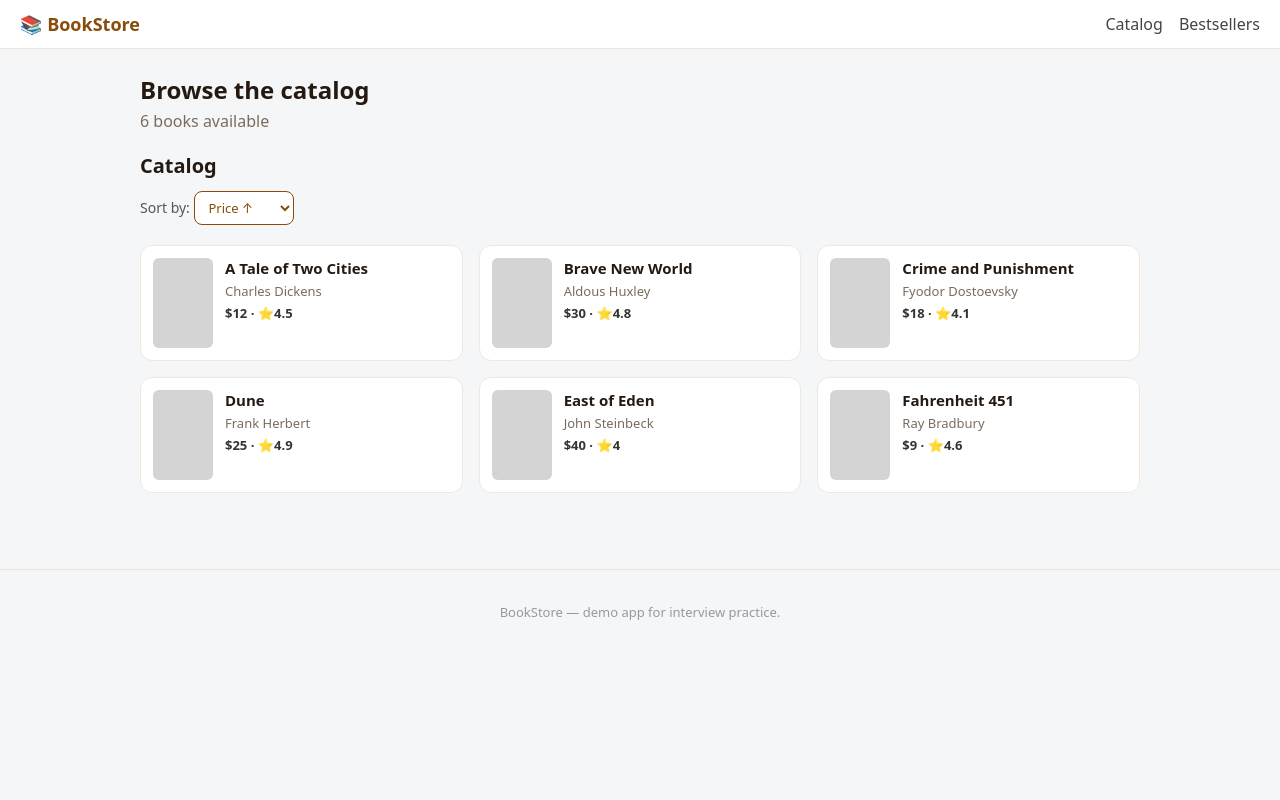
Scenario: m07 · BookStore — app renders › navigates to the Bestsellers route via the navbar
Click the link with test id "nav-bestsellers": (1219, 24) left=1179, top=13, right=1260, bottom=35
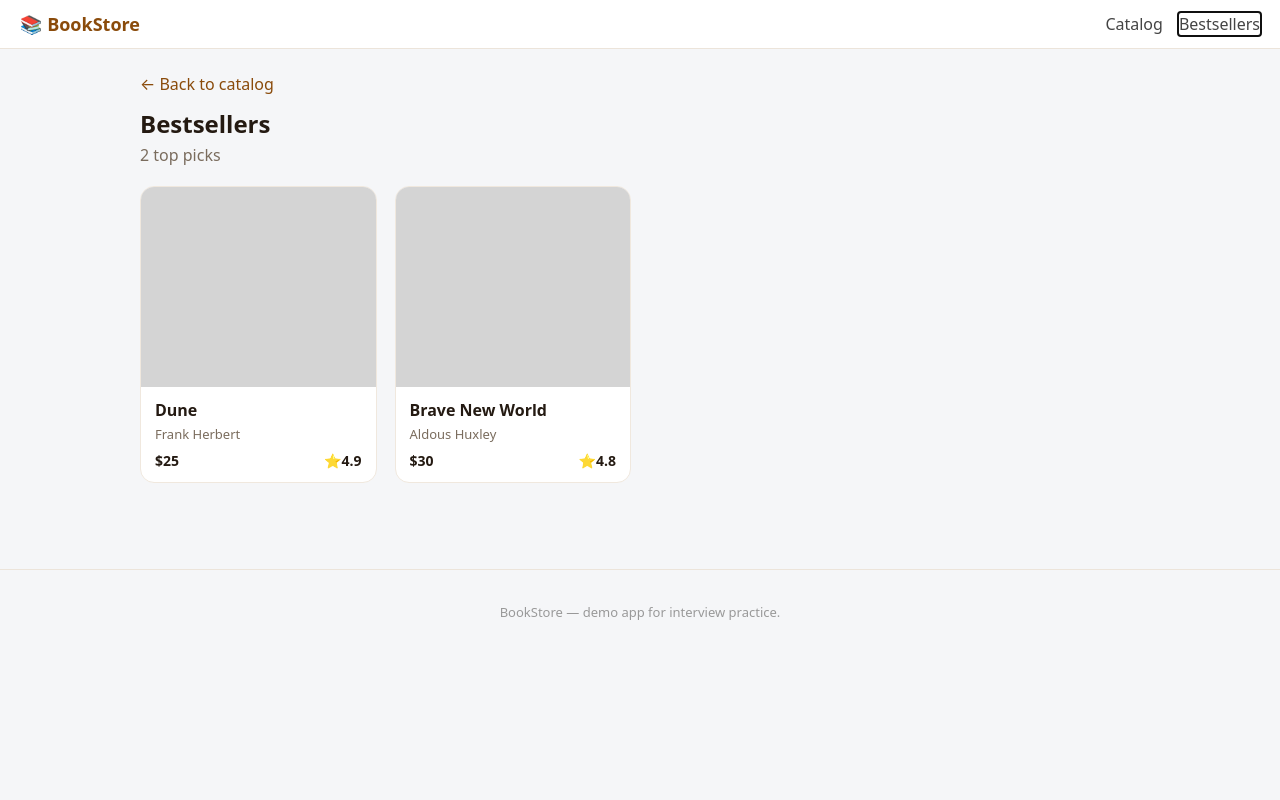
Now the element with test id "bestsellers-page" is shown, box left=140, top=73, right=631, bottom=483
